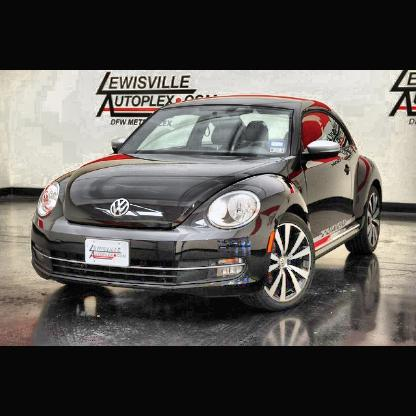Volkswagen Beetle Hatchback 2012: (33, 96, 385, 309)
